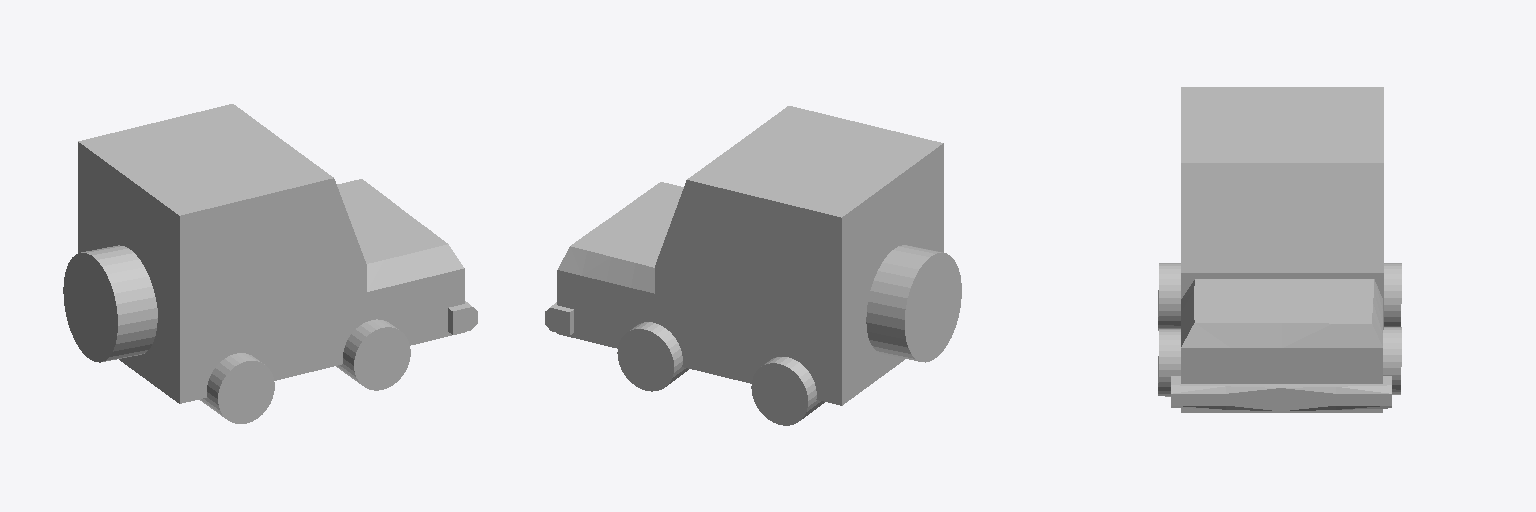
The model's file is jimny.obj.
The picture shows the model from 3 angles: view 1: azimuth 30°, elevation 25°; view 2: azimuth 150°, elevation 25°; view 3: azimuth 270°, elevation 25°; orthographic projection.
Parts seen in each view (by area): view 1: Cube, Cube.001, Cylinder.car, Cylinder.002_Cylinder.003, Cylinder.000_Cylinder.002, Cube.002; view 2: Cube, Cube.001, Cylinder.car, Cylinder.001, Cylinder.003_Cylinder.004, Cube.002; view 3: Cube, Cube.001, Cube.002, Cylinder.002_Cylinder.003, Cylinder.000_Cylinder.002, Cylinder.001, Cylinder.003_Cylinder.004.
Part boxes in pixels (x1,y1,x2,y2): Cube: (78,104,366,403); Cube.001: (337,179,464,345); Cylinder.car: (63,245,157,362); Cylinder.002_Cylinder.003: (199,353,274,423); Cylinder.000_Cylinder.002: (336,319,410,390); Cube.002: (448,301,477,334); Cube: (655,106,943,405); Cube.001: (557,182,683,348); Cylinder.car: (866,245,961,362); Cylinder.001: (751,357,824,425); Cylinder.003_Cylinder.004: (617,322,688,391); Cube.002: (545,302,573,335); Cube: (1181,87,1383,329); Cube.001: (1181,279,1382,412); Cube.002: (1171,376,1391,410); Cylinder.002_Cylinder.003: (1158,263,1180,330); Cylinder.000_Cylinder.002: (1158,329,1180,396); Cylinder.001: (1384,263,1401,326); Cylinder.003_Cylinder.004: (1383,327,1401,394).
Size of the model in its own units: 6.91 by 4.23 by 4.36.